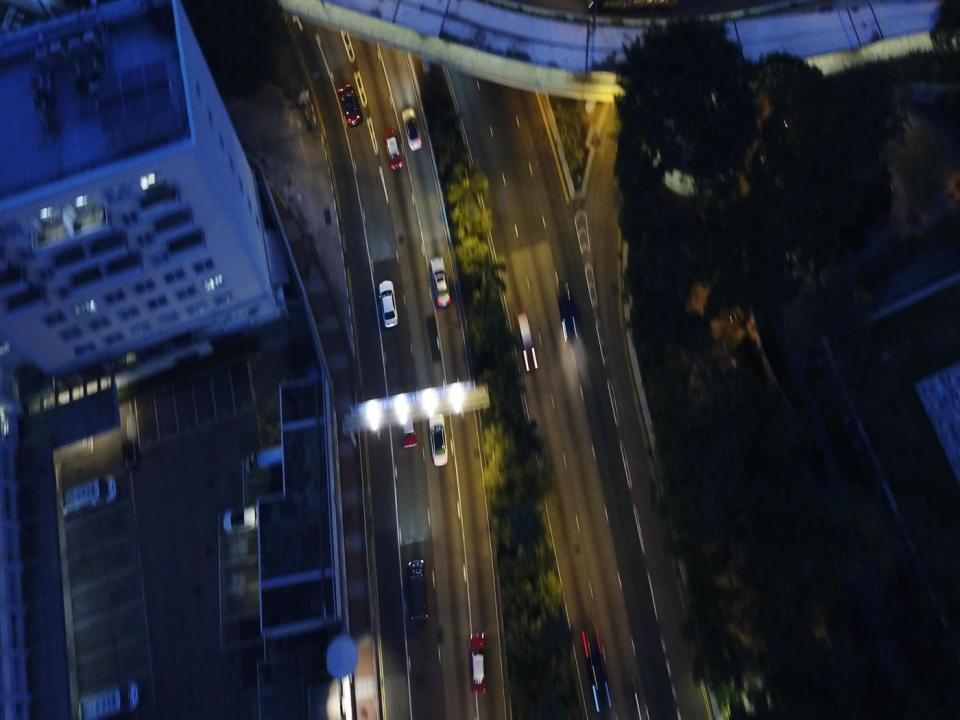car: (582, 625, 612, 716), (512, 307, 539, 371), (557, 280, 578, 340), (429, 256, 451, 307), (469, 632, 486, 694), (377, 279, 398, 329), (402, 107, 424, 151), (429, 413, 447, 466), (339, 84, 360, 126), (384, 128, 403, 170), (401, 396, 416, 448)
van: (406, 559, 428, 623)
